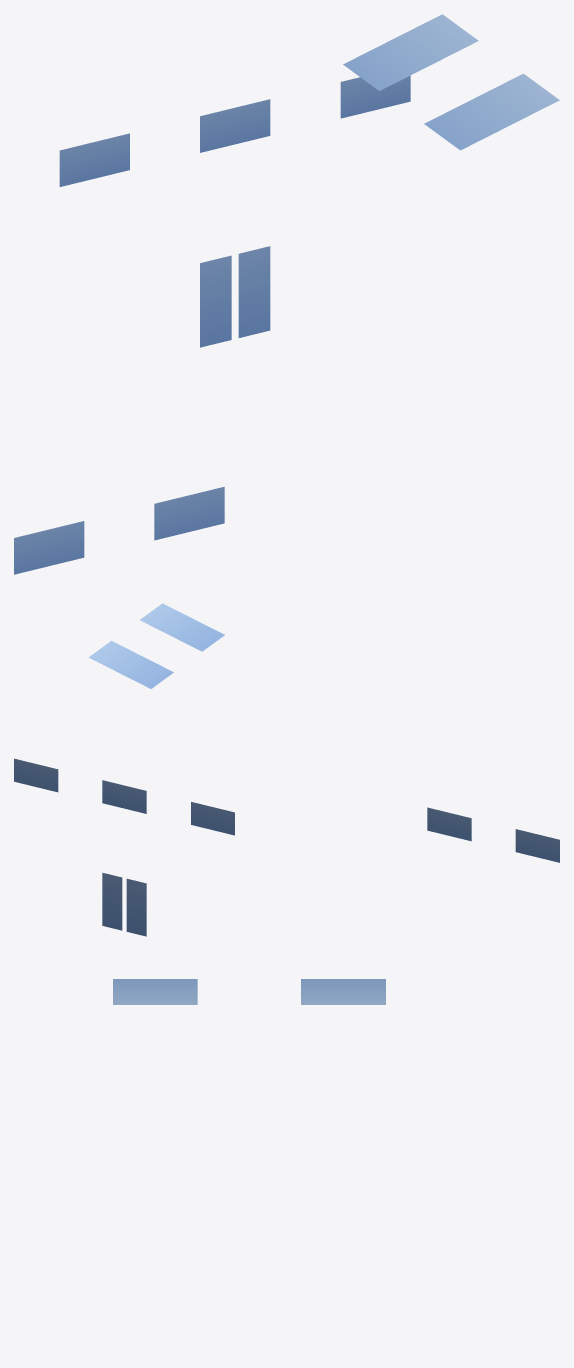
Rendered from 054_1_5_building-l_1.glb.
3 views of the same model, one above another, from view 1: azimuth 30°, elevation 25°; view 2: azimuth 150°, elevation 25°; view 3: azimuth 270°, elevation 25° (orthographic). The views are drawn at different scales.
Parts seen in each view (by area): view 1: 1_5_building-l_1; view 2: 1_5_building-l_1; view 3: 1_5_building-l_1.
Part boxes in pixels (<box>): 1_5_building-l_1: <box>14,14,559,574</box>; 1_5_building-l_1: <box>14,603,559,936</box>; 1_5_building-l_1: <box>113,979,385,1004</box>.
Size of the model in its own units: 1.8 by 0.946 by 1.16.
Materials: 1 (1 with a texture image).
